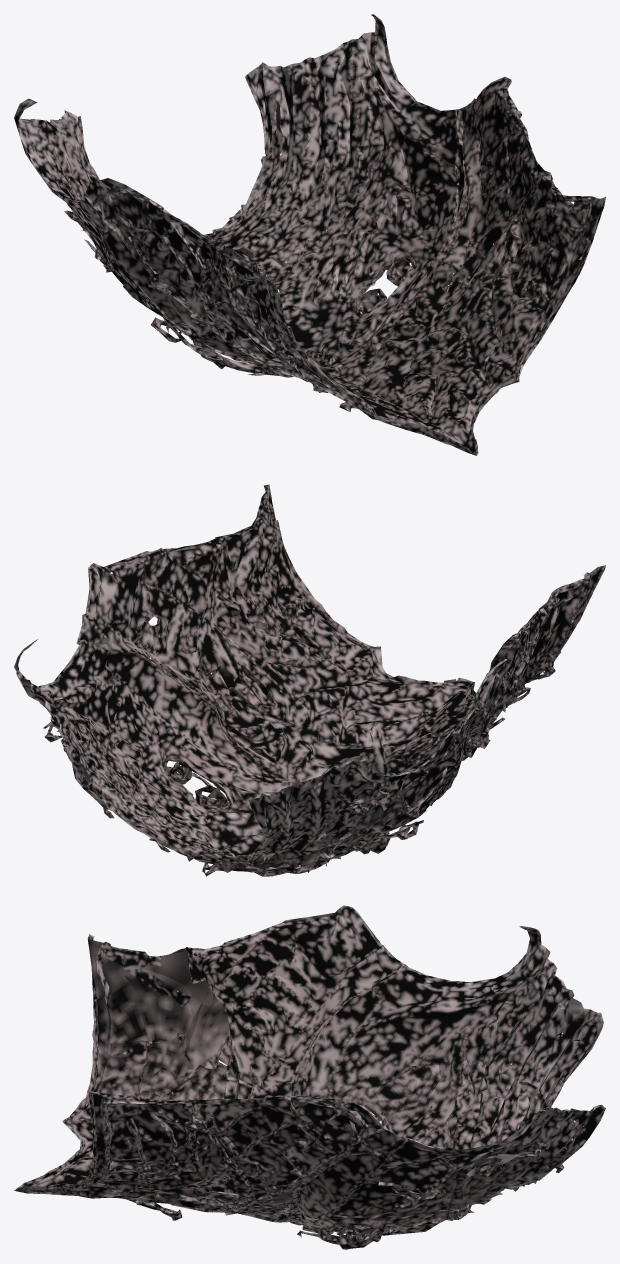
The model's file is vampire_chestplate_LOD0.glb.
The picture shows the model from 3 angles, top to bottom: view 1: azimuth 30°, elevation 25°; view 2: azimuth 150°, elevation 25°; view 3: azimuth 270°, elevation 25°; orthographic projection. The views are drawn at different scales.
Parts seen in each view (by area): view 1: vampire_chestplate_LOD0; view 2: vampire_chestplate_LOD0; view 3: vampire_chestplate_LOD0.
Part boxes in pixels (x1,y1,x2,y2): vampire_chestplate_LOD0: (14,14,605,455); vampire_chestplate_LOD0: (14,484,605,876); vampire_chestplate_LOD0: (14,905,605,1249).
Bounding box in the file's own units: 0.5929 × 0.3327 × 0.7733.
Materials: 1 (1 with a texture image).
